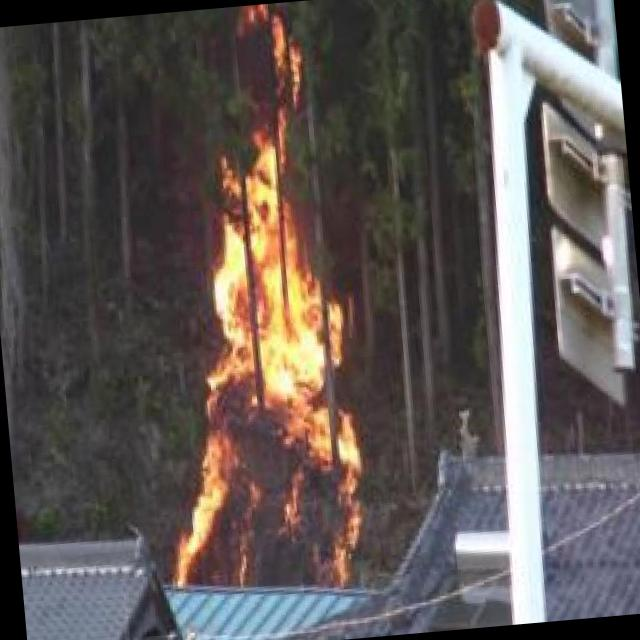Fire: (130, 8, 368, 600)
